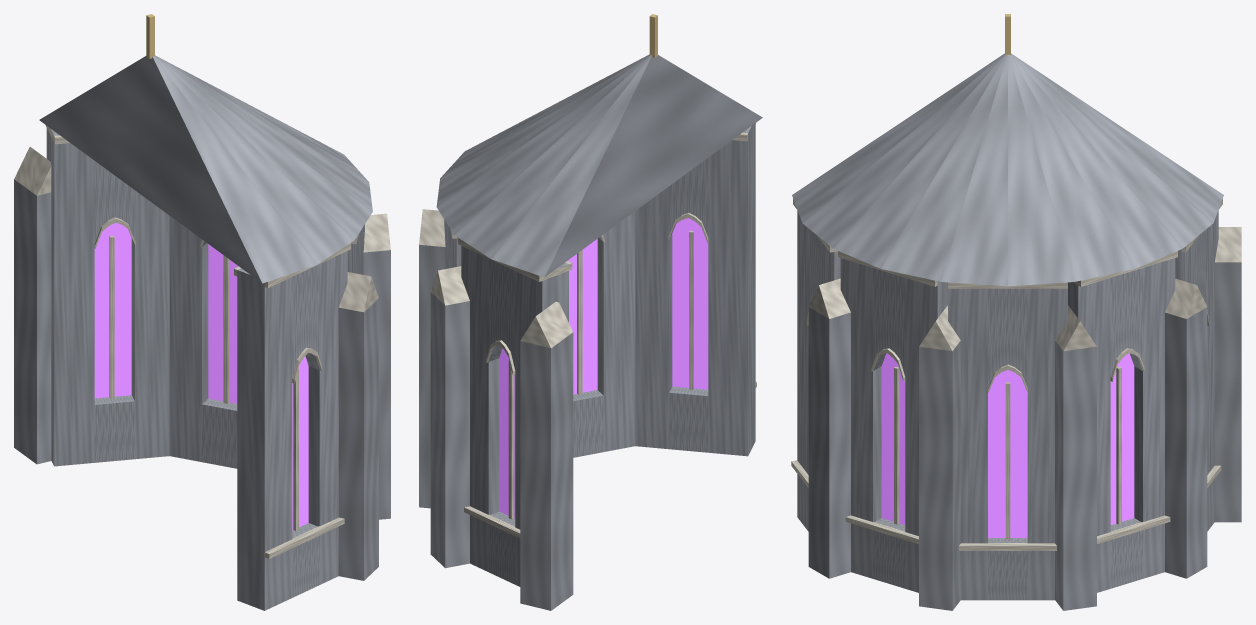
File: vampire-crypt-and-gothic-cathedral-apse-9fb1b8c4__22942.glb
The picture shows the model from 3 angles, left to right: view 1: azimuth 30°, elevation 25°; view 2: azimuth 150°, elevation 25°; view 3: azimuth 270°, elevation 25°; orthographic projection. The views are drawn at different scales.
Parts seen in each view (by area): view 1: apse; view 2: apse; view 3: apse.
Boxes of the visible parts, x1,y1,x2,y2 form: apse: [14, 14, 390, 610]; apse: [419, 14, 762, 610]; apse: [791, 14, 1241, 610].
Bounding box in the file's own units: 5.56 × 12.5 × 10.21.
Materials: 4 (2 with a texture image).
